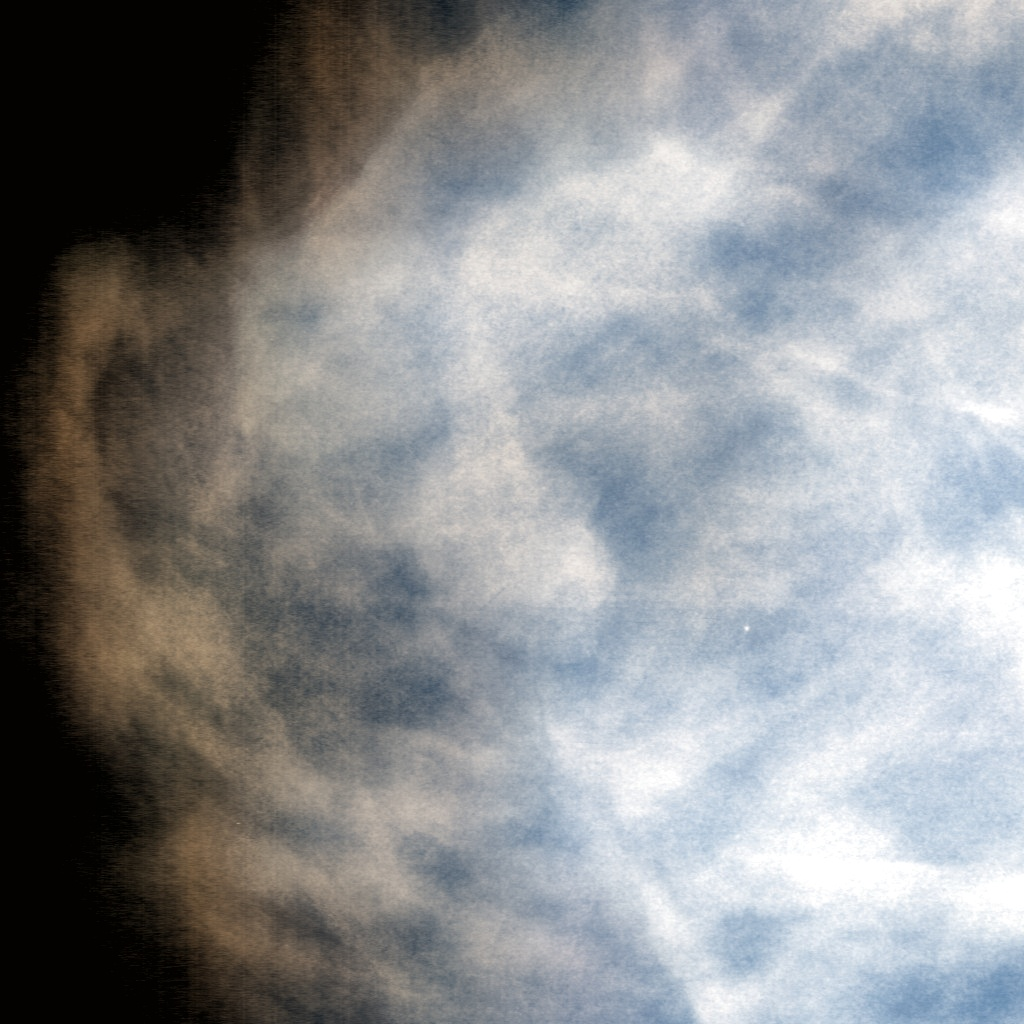tumor: (406, 410, 618, 614)
